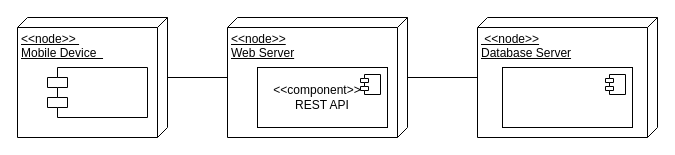
Some shapes in this 675 by 155 pixel diagram are drawn without their labels. Each missing label, with the centre of its shape:
"<<database>> MySQL DB" goes at point 567,97.
"MobileApp.apk" goes at point 97,92.
